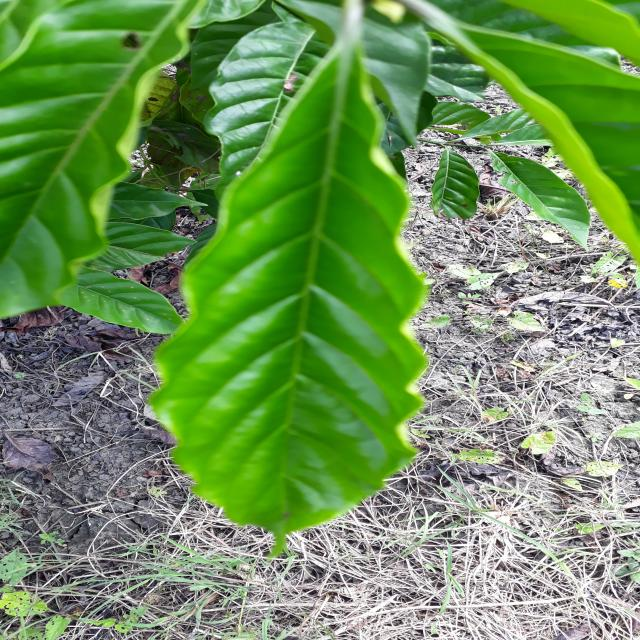Sanas: (146, 0, 430, 541)
